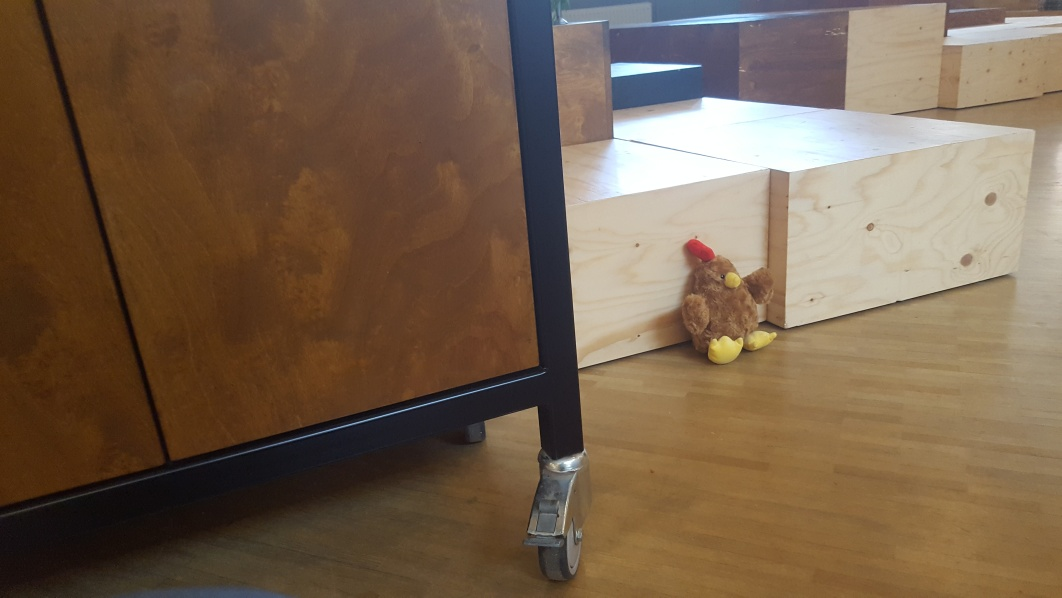chicken: (669, 237, 780, 362)
